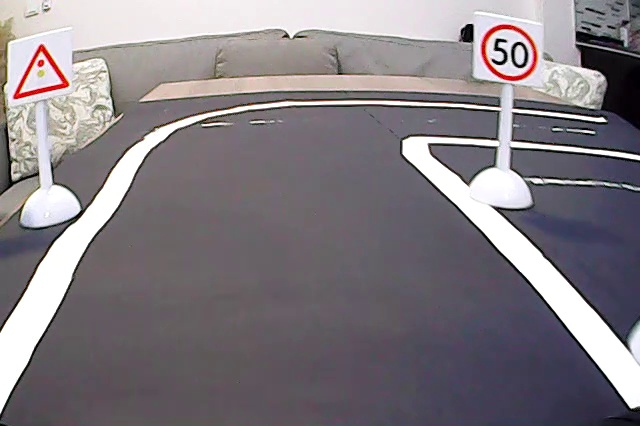red light: (10, 40, 72, 100)
speed limit 50: (478, 19, 540, 84)
